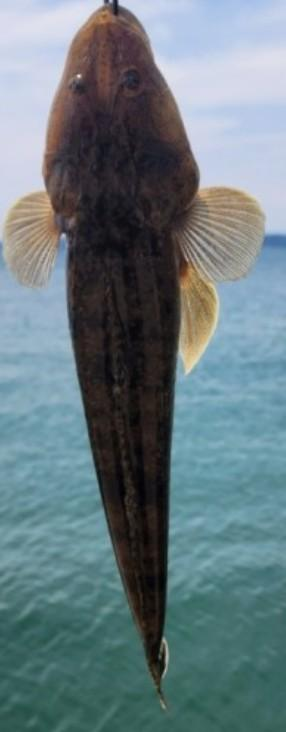fish: (3, 0, 265, 713)
